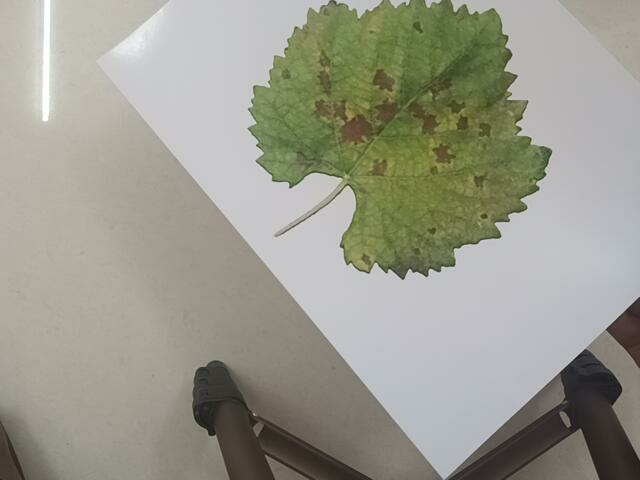Grape_Leaf_Vine_Disease: (215, 4, 574, 272)
